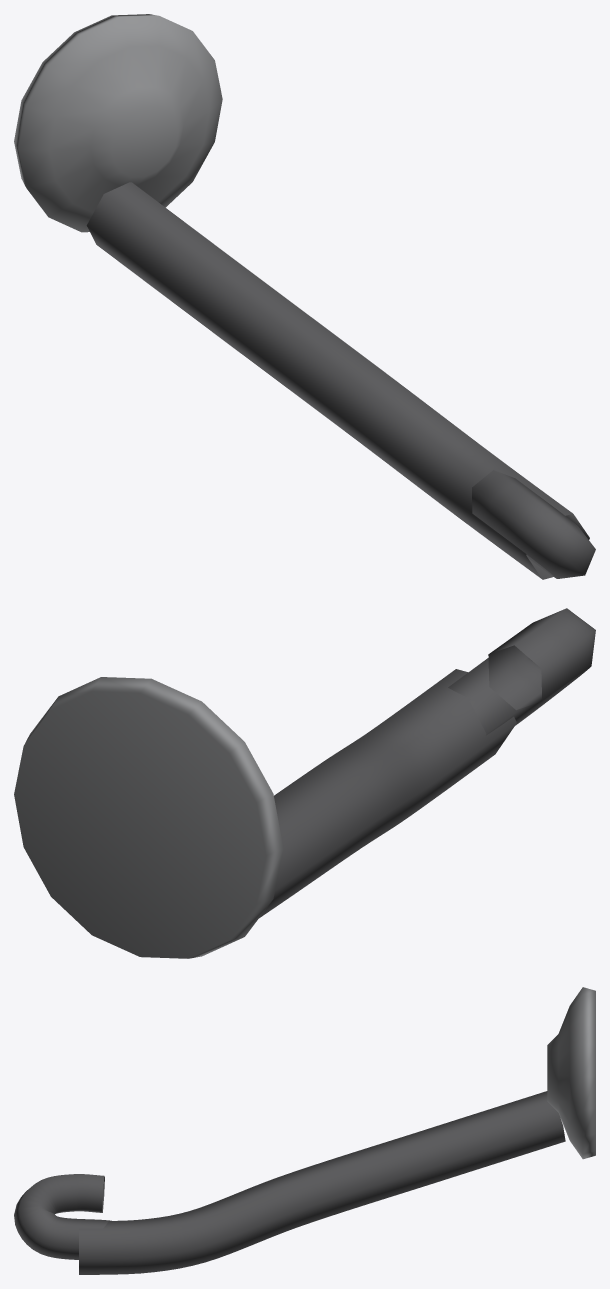
3 views of the same model, one above another, from view 1: azimuth 30°, elevation 25°; view 2: azimuth 150°, elevation 25°; view 3: azimuth 270°, elevation 25° (orthographic). The views are drawn at different scales.
Bounding box in the file's own units: 0.5532 × 0.7666 × 1.68.
